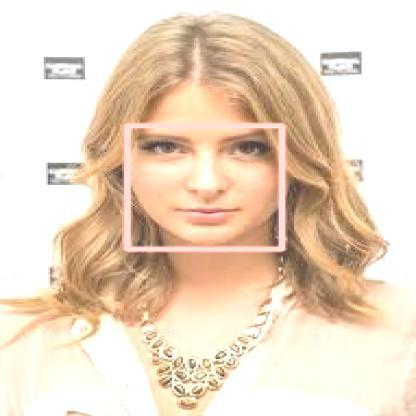without_mask: (126, 125, 281, 248)
